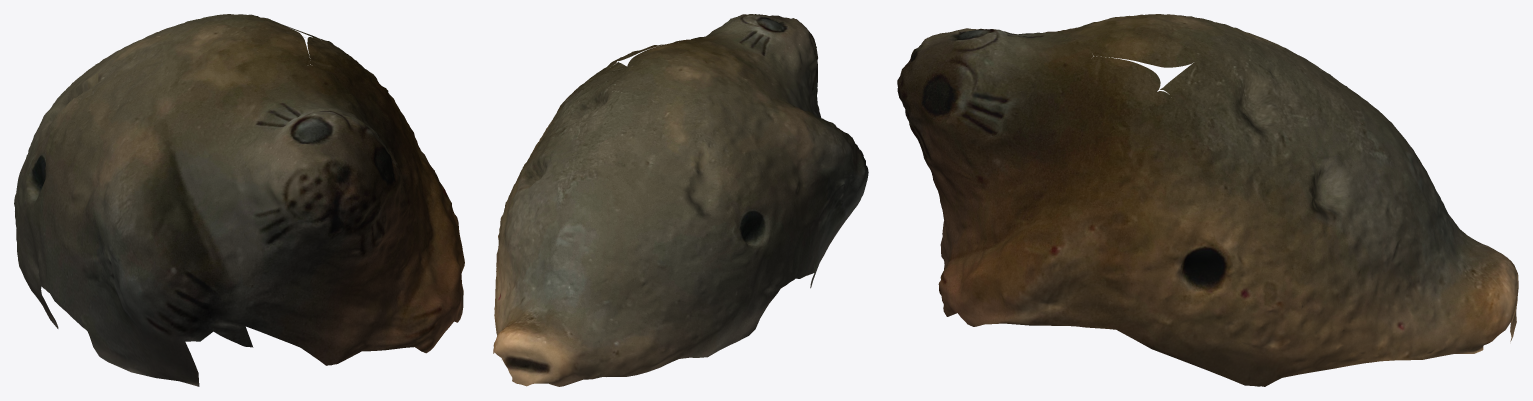
File: exp1.glb
3 views of the same model, side by side, from view 1: azimuth 30°, elevation 25°; view 2: azimuth 150°, elevation 25°; view 3: azimuth 270°, elevation 25° (orthographic). The views are drawn at different scales.
Visible parts, largest first — view 1: Mesh_0.002; view 2: Mesh_0.002; view 3: Mesh_0.002.
Part boxes in pixels (left/top/right/bottom): Mesh_0.002: left=14, top=14, right=464, bottom=386; Mesh_0.002: left=493, top=14, right=868, bottom=386; Mesh_0.002: left=897, top=14, right=1518, bottom=386.
Size of the model in its own units: 0.6605 by 0.5445 by 1.02.
Materials: 1 (1 with a texture image).
